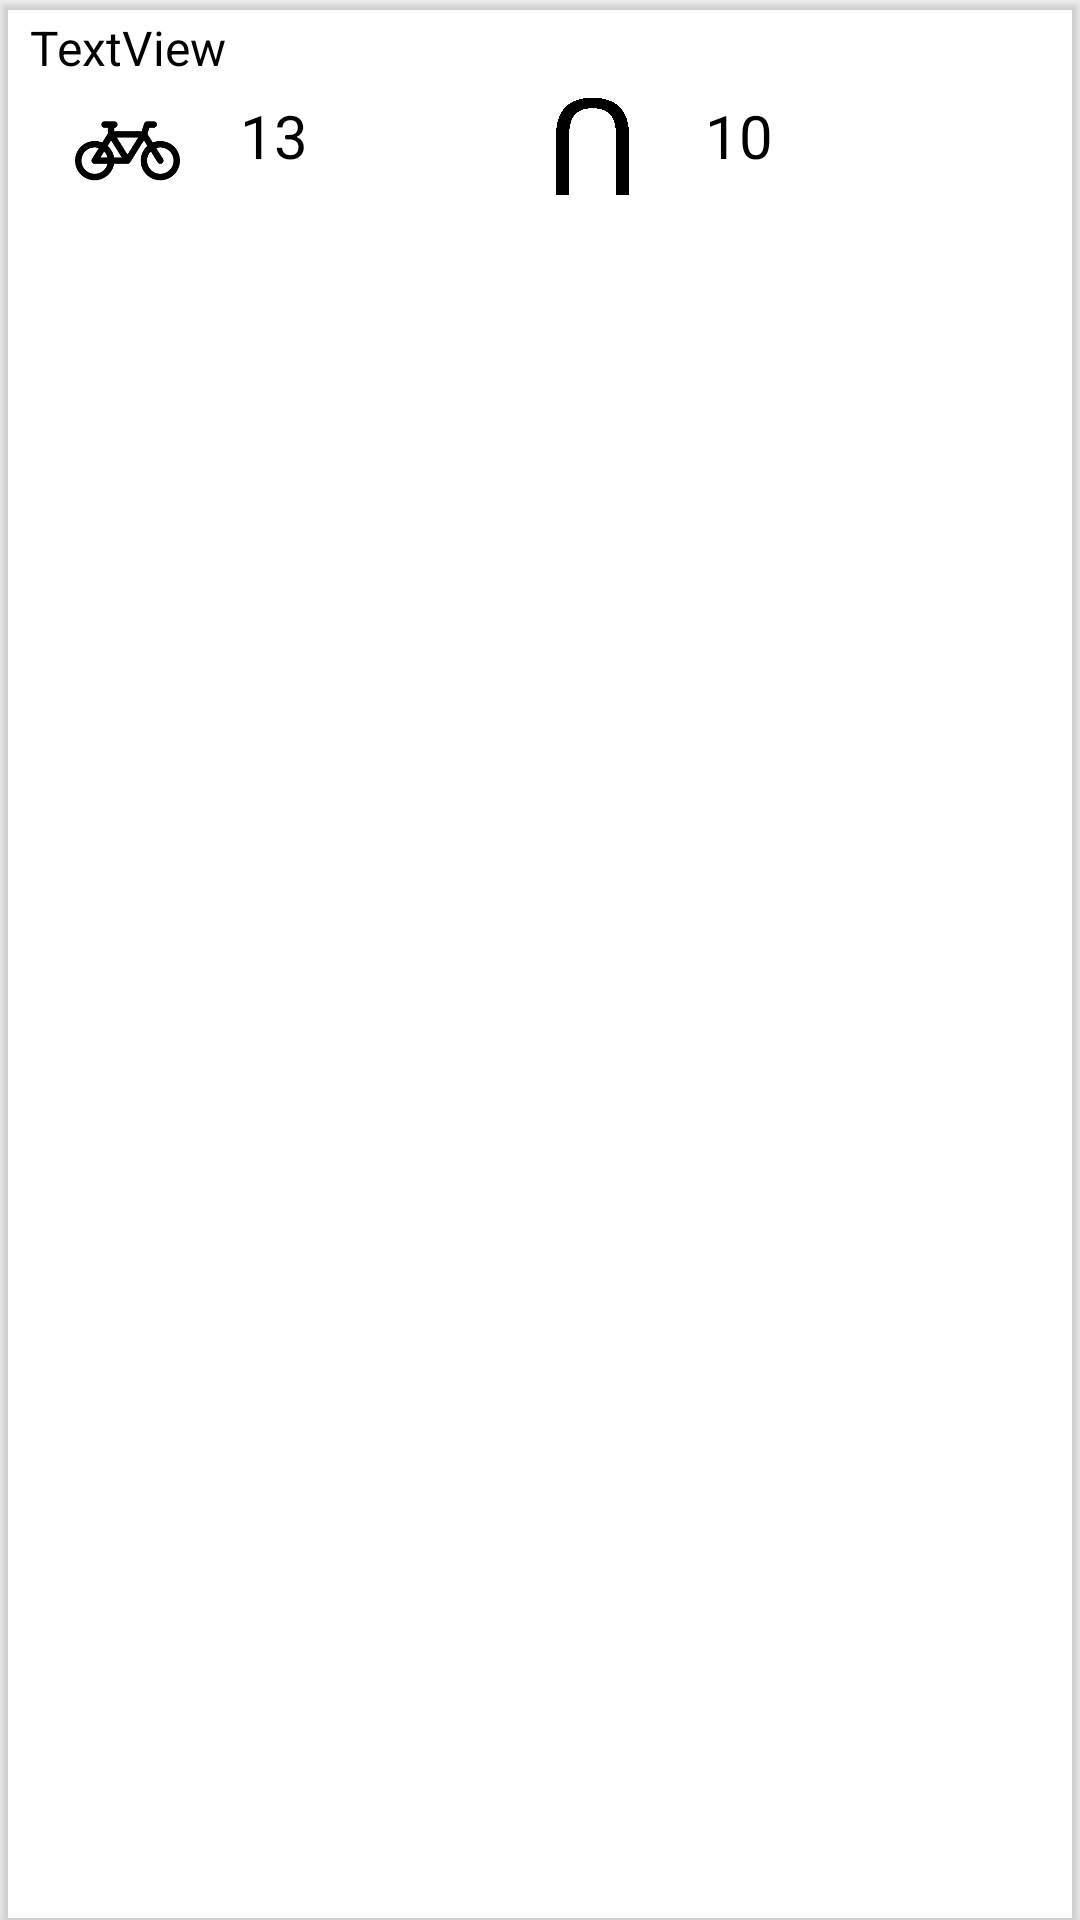

Screen size 1080px x 1920px. Icon name, then its center in pixels as point (x, y):
iconobicibueno: point (127, 151)
